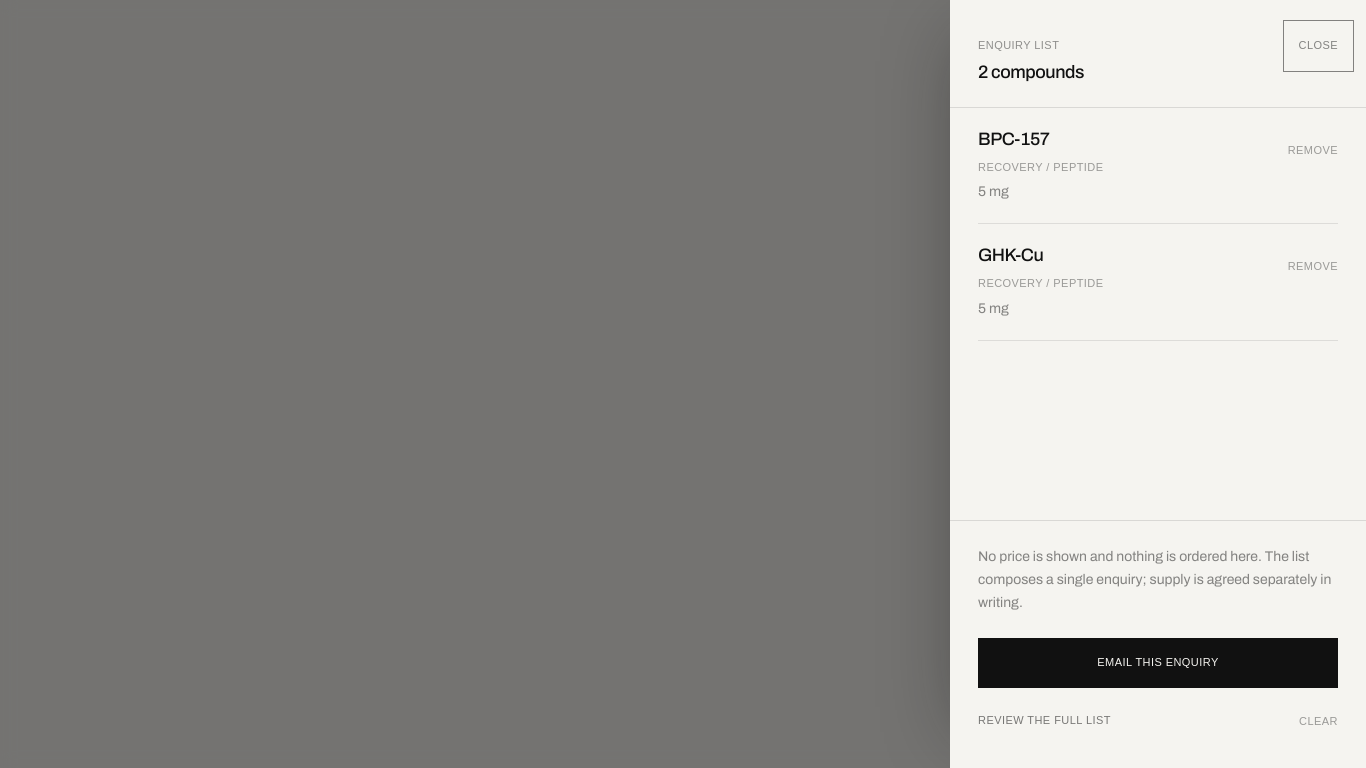
enquiry drawer › removes an item and updates the count
This screenshot has width=1366, height=768.
Check: the text "2 compounds" is shown, box [978,61,1084,83]
Click the button named "remove BPC-157".
click(1313, 150)  # box [1280,128,1346,172]
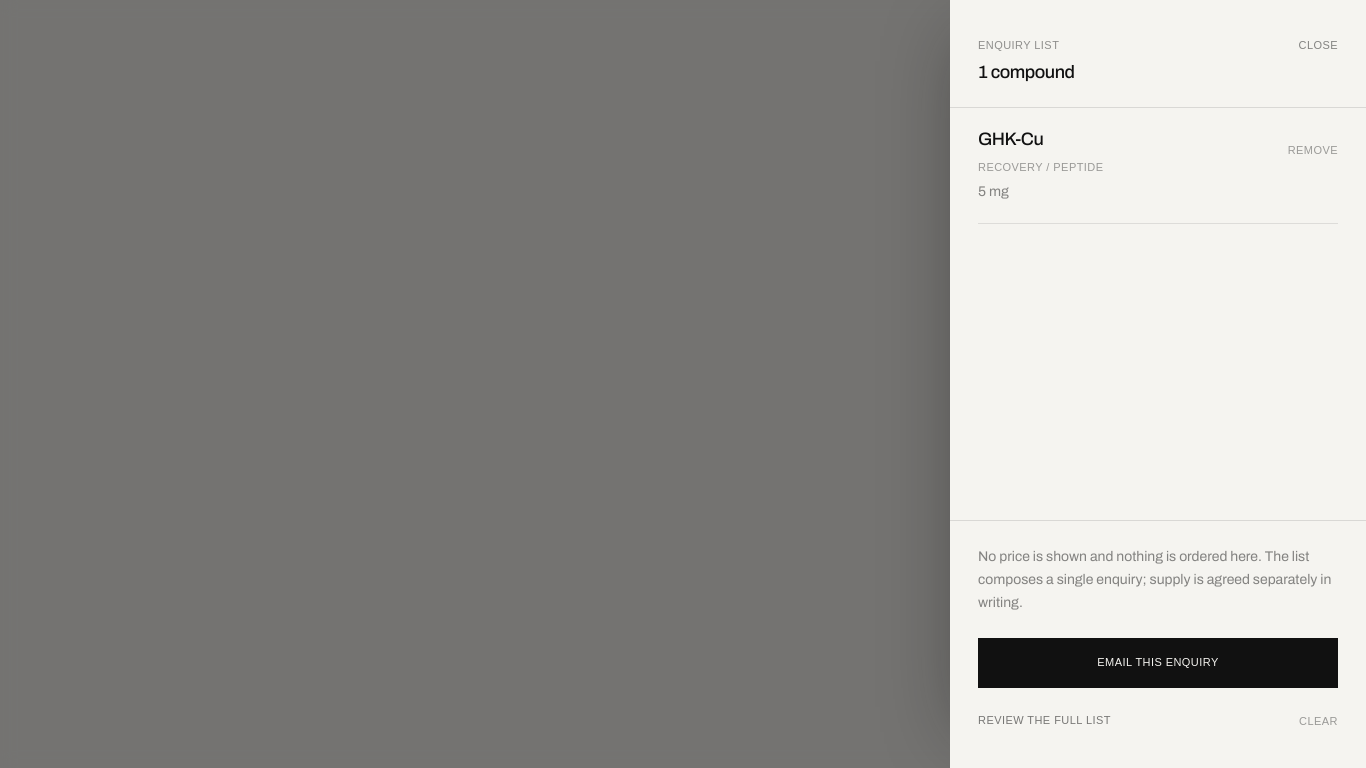
Check: the text "1 compound" is shown, box [978,61,1075,83]
